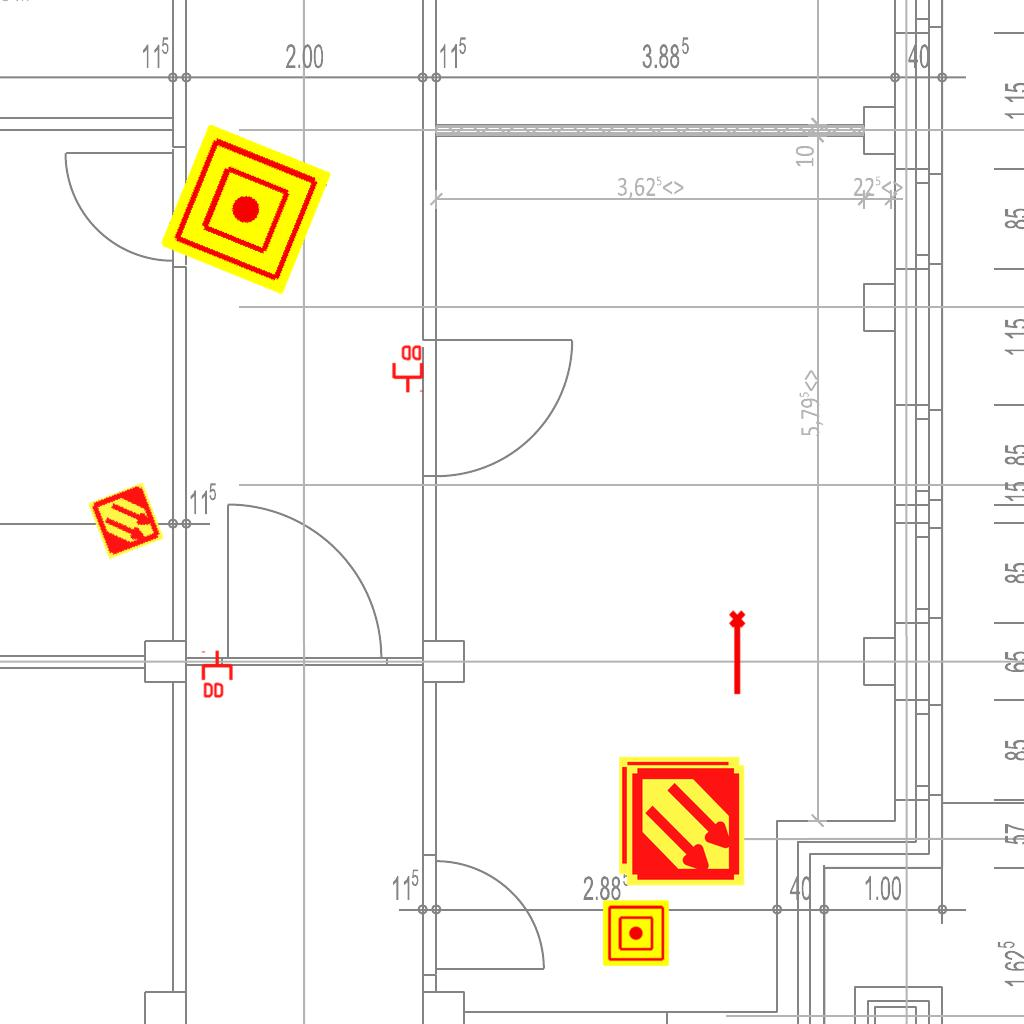ASR_Ansaugoeffnung: (727, 609, 750, 697)
ASR_Ansaugrauchmelder: (617, 753, 742, 878), (623, 763, 748, 888), (85, 480, 167, 562)
Datenanschluss_zweifach: (390, 343, 424, 394), (201, 649, 235, 700)
NAM-Nichtautomatischer_Melder: (160, 123, 332, 295), (603, 900, 669, 966)
